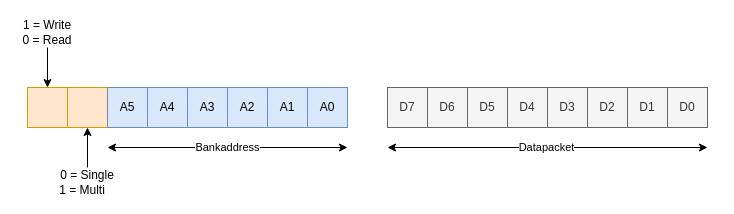
The diagram is 734 pixels wide and 214 high, and some of its shapes have lost their labels. Each missing label, with the box of its shape:
R/W: (26, 86, 68, 128)
S/M: (66, 86, 108, 128)
